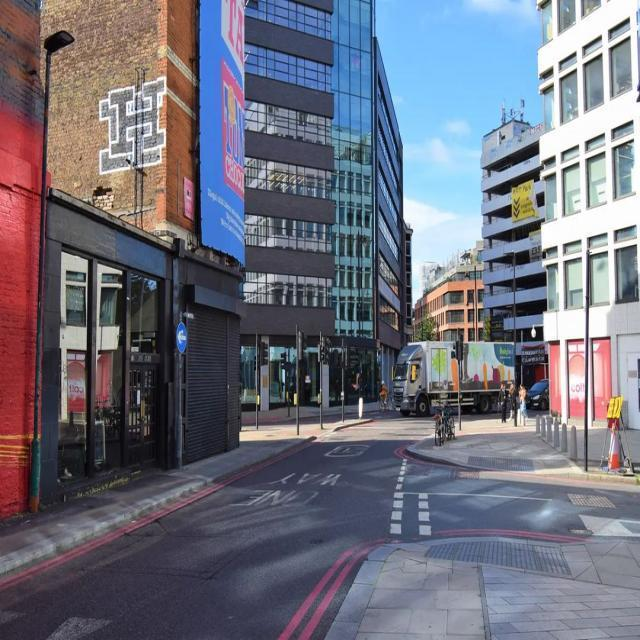nonspitting: (98, 76, 167, 173)
